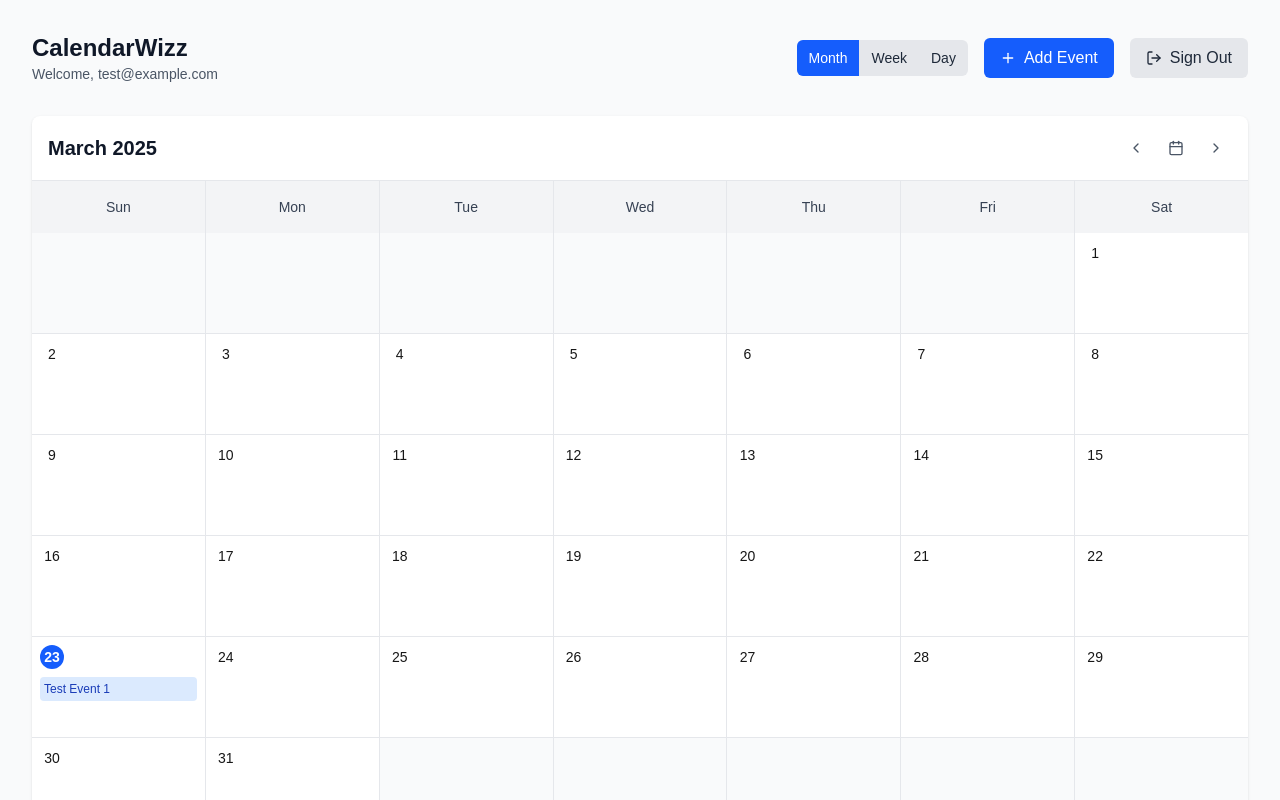
Test: Calendar Component › navigates to previous month when clicking previous button
Click the 6th button at {"x": 1136, "y": 148}, box [1120, 132, 1152, 164]
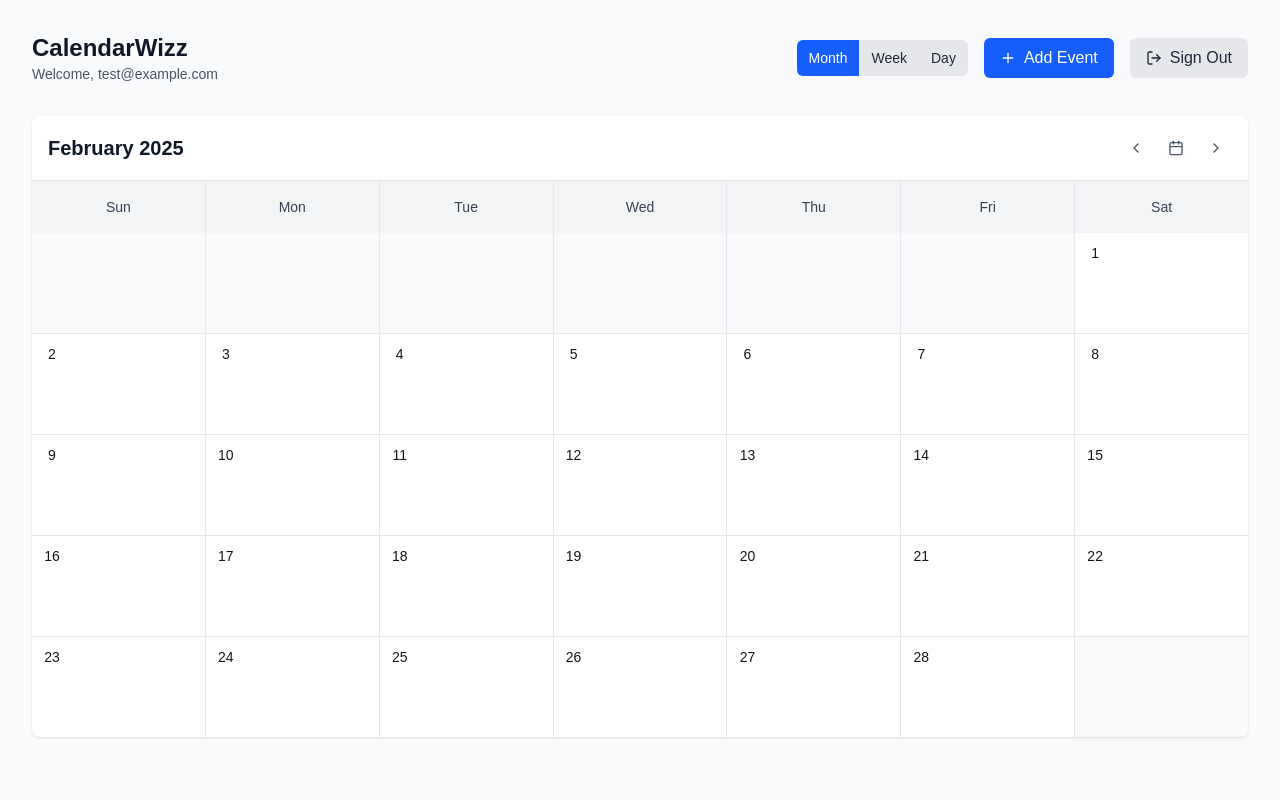
Now the heading "February 2025" is shown, box [48, 134, 184, 162]
